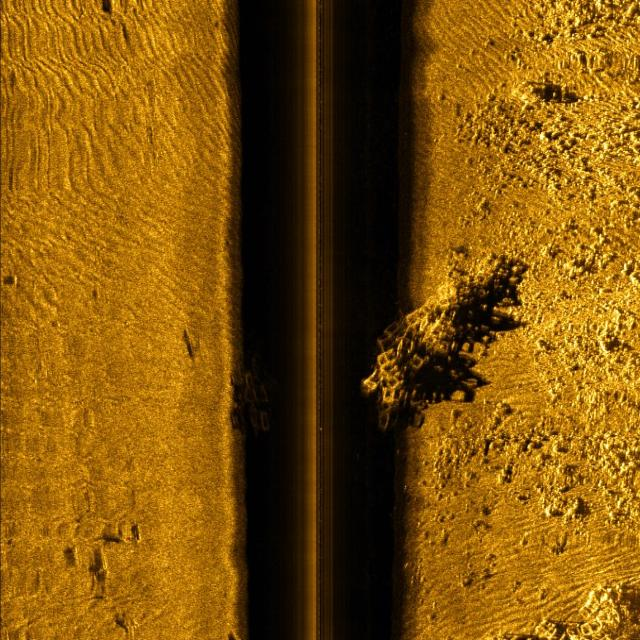artificial reef: (367, 218, 519, 430), (237, 349, 284, 443)
